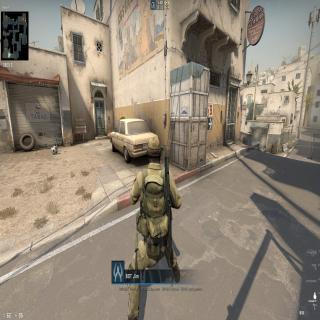CT-Head: (146, 134, 164, 164)
